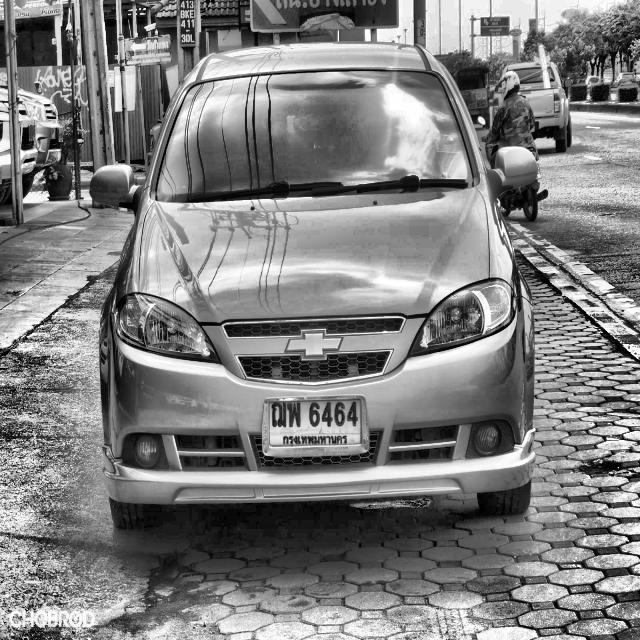license-plate: (257, 393, 375, 461)
